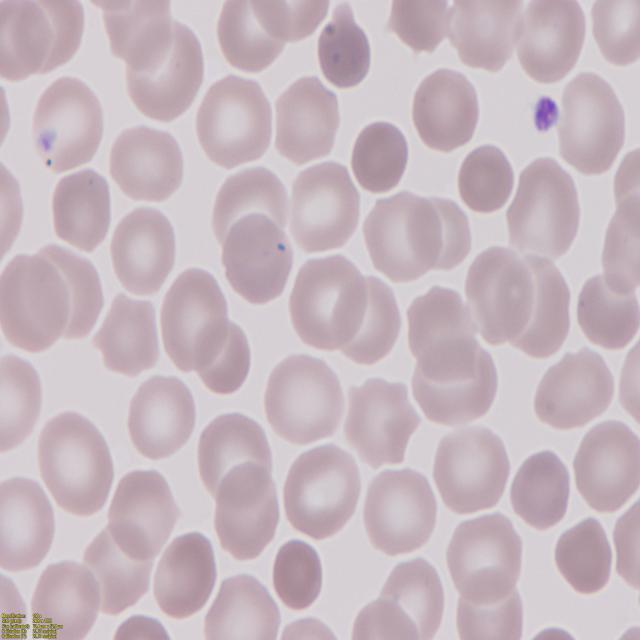Platelets: (526, 94, 558, 137)
RBC: (120, 15, 208, 124), (38, 410, 120, 520), (556, 68, 631, 180), (281, 448, 366, 546), (261, 351, 347, 447), (504, 157, 584, 260), (286, 251, 368, 350), (25, 74, 105, 175), (196, 72, 276, 172), (434, 422, 514, 522), (442, 509, 524, 606), (156, 264, 231, 370), (102, 462, 180, 559), (366, 191, 447, 283), (0, 248, 70, 354), (341, 371, 418, 467), (362, 466, 440, 560), (285, 164, 363, 258), (212, 462, 286, 560), (536, 344, 618, 432), (220, 212, 294, 308), (409, 66, 486, 156), (124, 372, 198, 464), (570, 421, 640, 518), (108, 205, 178, 301), (109, 121, 188, 206), (272, 75, 344, 166), (514, 0, 590, 86), (148, 527, 218, 620), (0, 474, 62, 576), (219, 2, 298, 74), (509, 443, 574, 529), (50, 167, 116, 251), (573, 272, 639, 352), (96, 294, 161, 374), (550, 515, 613, 596), (206, 573, 282, 640), (1, 350, 45, 460), (599, 194, 640, 296), (387, 0, 458, 58), (588, 1, 640, 65), (0, 159, 29, 263), (610, 494, 640, 592), (616, 339, 640, 423), (276, 615, 344, 640)
Spherocyte: (350, 118, 412, 196), (314, 16, 374, 92), (271, 537, 325, 614), (457, 142, 514, 212)
